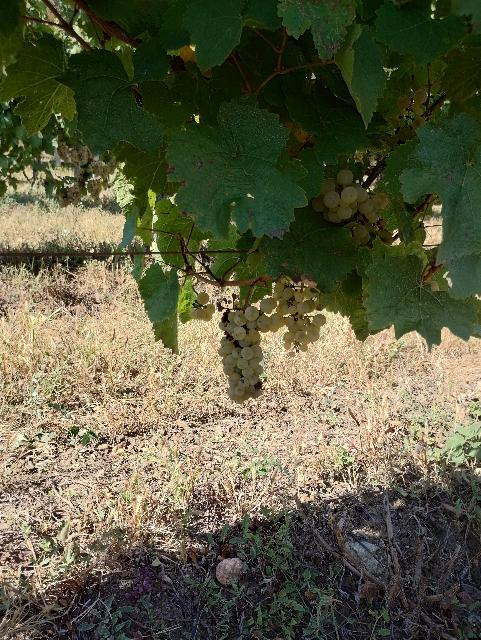grapes: (219, 295, 278, 404), (256, 282, 326, 356), (190, 292, 216, 321)
